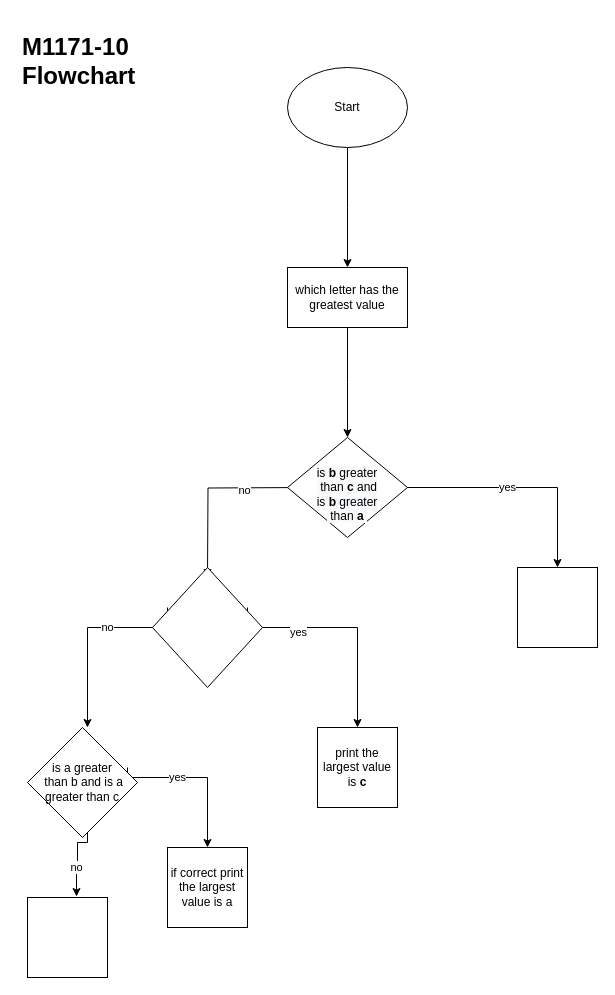
Image size: 615x995. Some labels were removed from this diagram. Each missing label, with the centre of its shape:
if false print error: the point at 67,937
is c greater than b and is c greater than a: the point at 207,627
print the largest value is b: the point at 557,607
